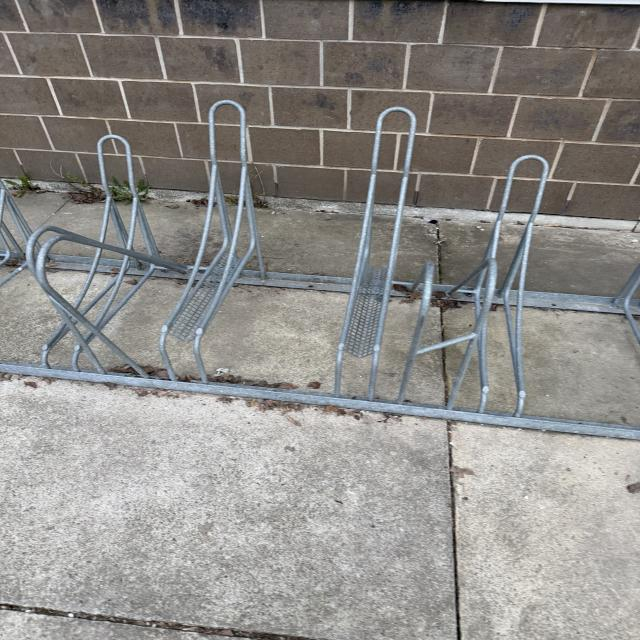Bicycle Rack: (0, 99, 640, 442)
